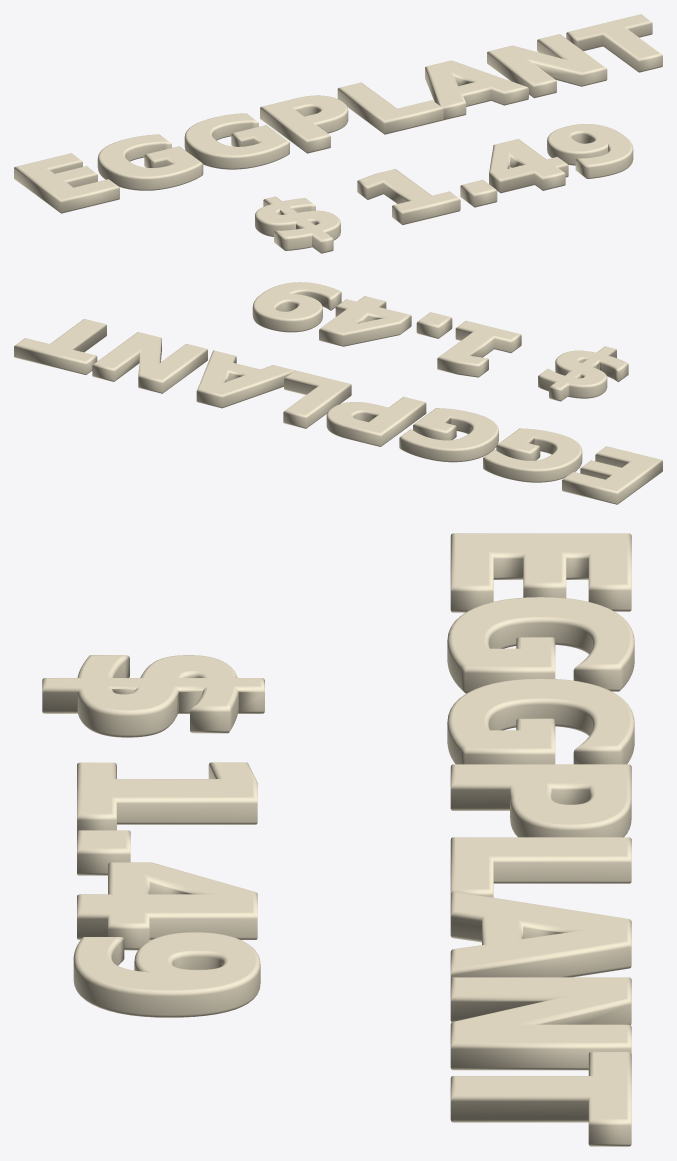
The model's file is SM_EG_Produce_price_00888702a0.fbx.
3 views of the same model, one above another, from view 1: azimuth 30°, elevation 25°; view 2: azimuth 150°, elevation 25°; view 3: azimuth 270°, elevation 25° (orthographic). The views are drawn at different scales.
Visible parts, largest first — view 1: SM_EG_Produce_price_00888702a0; view 2: SM_EG_Produce_price_00888702a0; view 3: SM_EG_Produce_price_00888702a0.
Boxes of the visible parts, x1,y1,x2,y2 form: SM_EG_Produce_price_00888702a0: (14, 14, 662, 253); SM_EG_Produce_price_00888702a0: (14, 282, 662, 504); SM_EG_Produce_price_00888702a0: (42, 533, 634, 1146).
Bounding box in the file's own units: 20.51 × 8.72 × 0.44.
